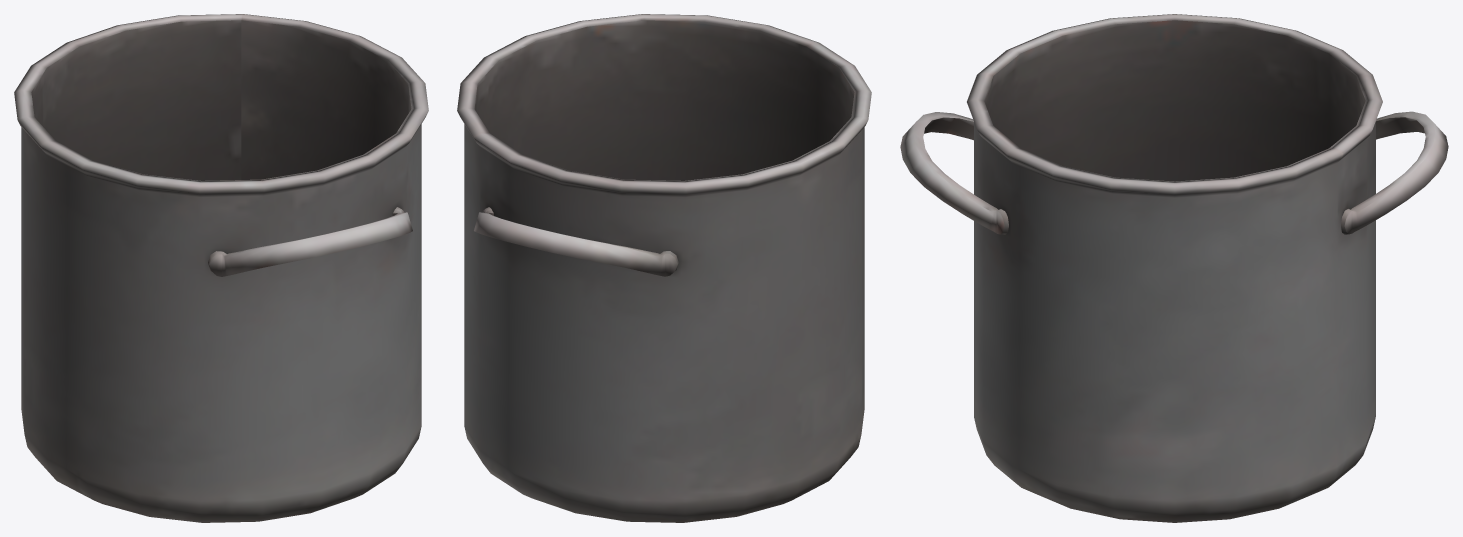
Rendered from SM_SaucePan_Steel_Pot_03.fbx.
3 renders of one model, left to right at view 1: azimuth 30°, elevation 25°; view 2: azimuth 150°, elevation 25°; view 3: azimuth 270°, elevation 25°, orthographic.
Parts seen in each view (by area): view 1: SM_SaucePan_Steel_Pot_03_LOD0; view 2: SM_SaucePan_Steel_Pot_03_LOD0; view 3: SM_SaucePan_Steel_Pot_03_LOD0.
Part boxes in pixels (x1,y1,x2,y2): SM_SaucePan_Steel_Pot_03_LOD0: (14,14,428,522); SM_SaucePan_Steel_Pot_03_LOD0: (457,14,871,522); SM_SaucePan_Steel_Pot_03_LOD0: (900,14,1448,522).
Bounding box in the file's own units: 16.9 × 22.26 × 15.74.
1 material, 1 textured.
